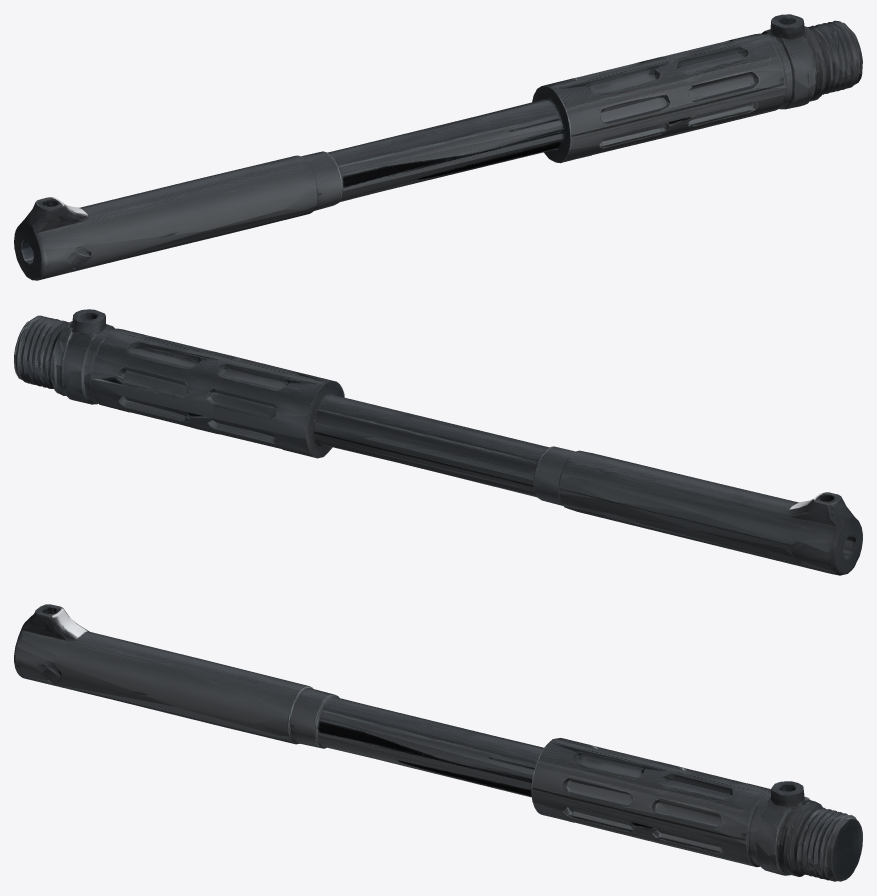
The picture shows the model from 3 angles, top to bottom: view 1: azimuth 30°, elevation 25°; view 2: azimuth 150°, elevation 25°; view 3: azimuth 330°, elevation 25°; orthographic projection.
Bounding box in the file's own units: 1.9 × 0.1845 × 0.1635.
1 material, 1 textured.
